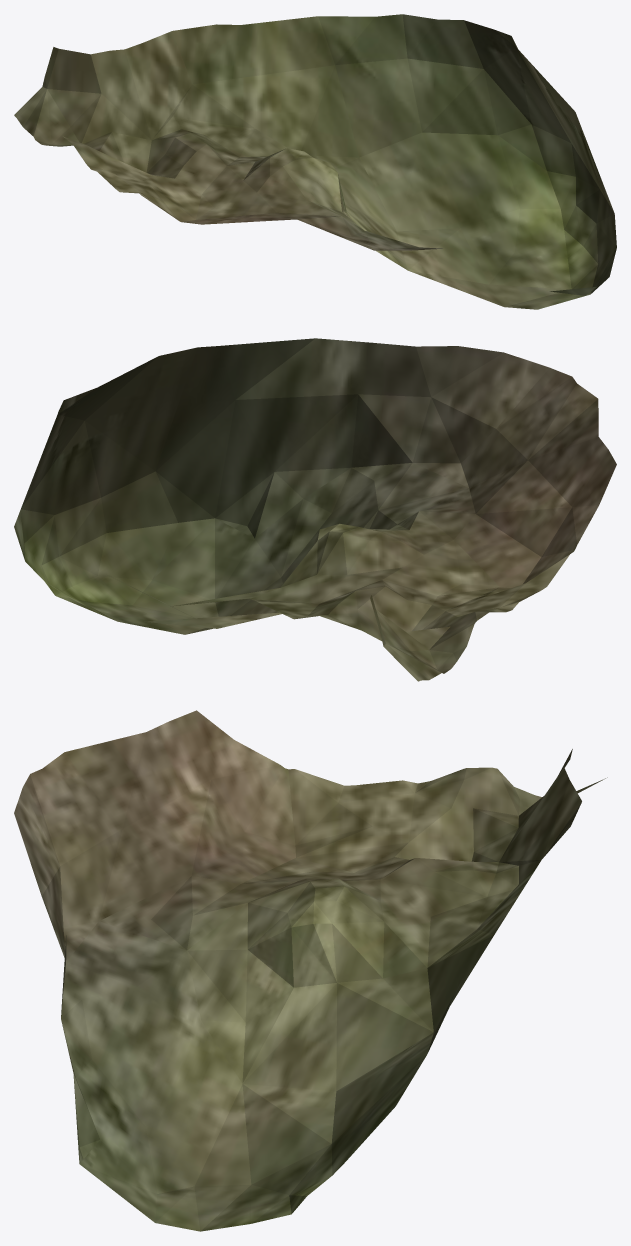
The picture shows the model from 3 angles, top to bottom: view 1: azimuth 30°, elevation 25°; view 2: azimuth 150°, elevation 25°; view 3: azimuth 270°, elevation 25°; orthographic projection. The views are drawn at different scales.
Bounding box in the file's own units: 2.24 × 1.02 × 2.05.
Materials: 2 (2 with a texture image).
